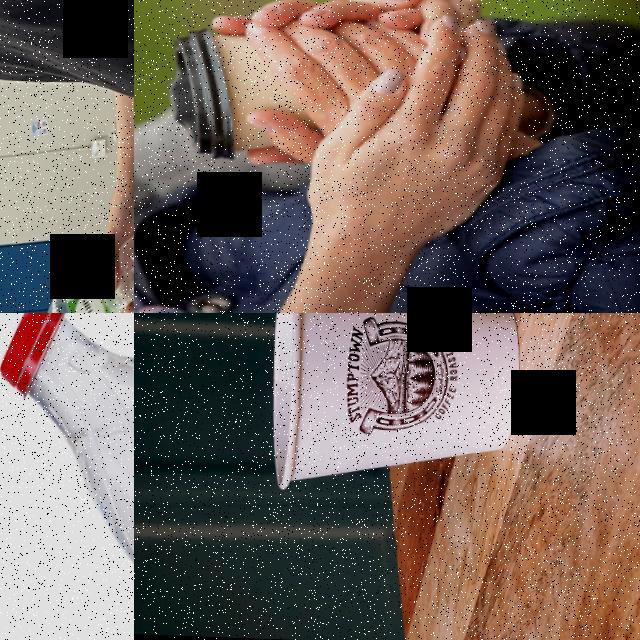bottle: (0, 313, 134, 640), (28, 199, 134, 313)
cup: (267, 313, 523, 497), (168, 17, 452, 166)
